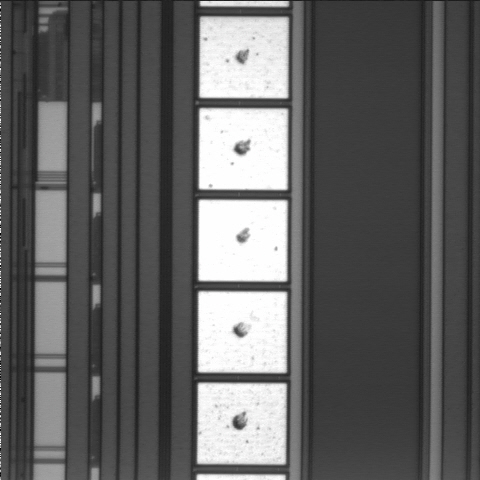pad: (198, 200, 288, 282), (199, 108, 288, 190), (198, 291, 287, 373), (199, 17, 288, 98), (197, 383, 286, 464)
